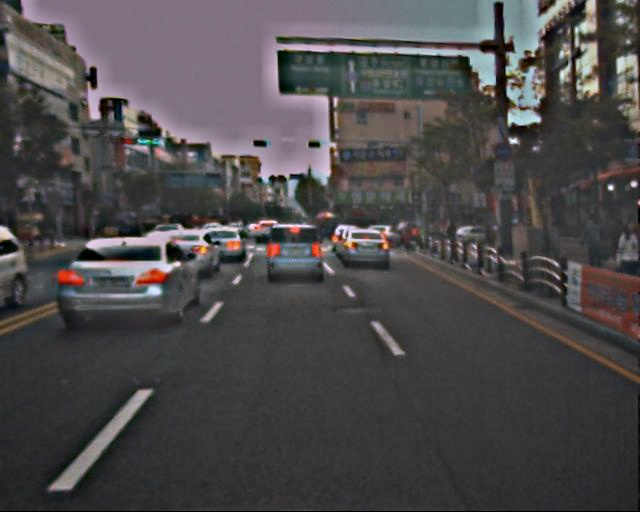person: (608, 220, 640, 308), (579, 215, 608, 285)
